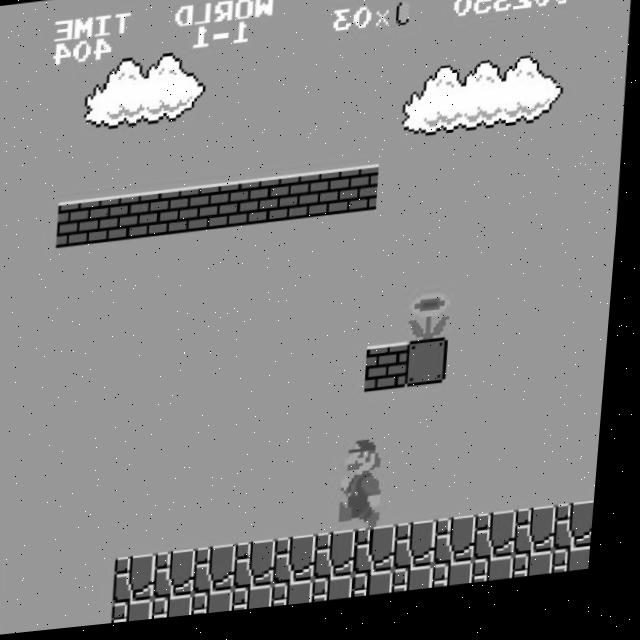0- big_mario: (345, 444, 396, 542)
1- brick_block: (370, 351, 415, 401), (339, 172, 384, 222), (259, 180, 304, 230), (179, 188, 224, 238), (299, 176, 344, 225), (219, 184, 264, 233), (139, 192, 184, 241), (99, 196, 144, 245), (59, 200, 104, 249)
17- undestructible_block: (522, 517, 567, 568), (442, 525, 487, 576), (362, 533, 407, 584), (242, 545, 287, 596), (482, 521, 527, 571), (402, 529, 447, 579), (322, 537, 367, 587), (282, 541, 327, 591), (202, 549, 247, 599), (162, 553, 207, 603), (122, 557, 167, 607), (562, 514, 604, 564), (281, 586, 324, 614), (522, 563, 564, 590), (482, 567, 524, 594), (442, 571, 484, 598), (402, 575, 444, 602), (362, 579, 404, 606), (322, 583, 364, 610), (241, 591, 283, 617), (201, 594, 243, 620), (161, 598, 203, 624), (561, 559, 601, 586), (121, 602, 163, 627), (0, 573, 6, 623), (0, 618, 2, 640)
3- empty_block: (410, 346, 455, 397)
6- flower: (413, 298, 460, 351)
